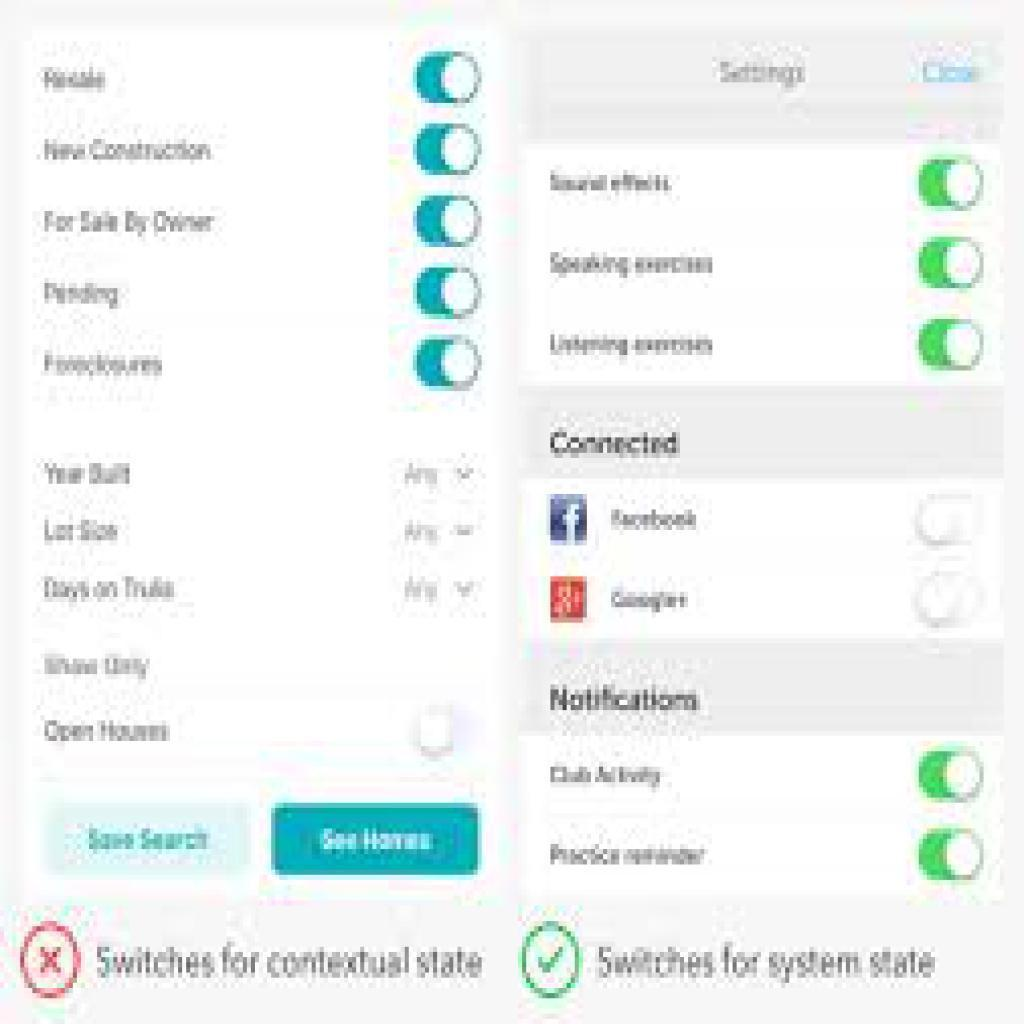button: (272, 801, 483, 875), (47, 801, 251, 874)
dropdown: (404, 574, 478, 608), (404, 518, 478, 549), (398, 461, 478, 489)
label: (548, 247, 716, 283), (545, 683, 702, 717), (42, 208, 218, 238), (547, 841, 712, 873), (545, 331, 715, 362), (548, 427, 687, 464), (42, 138, 213, 167), (40, 571, 180, 604), (40, 350, 170, 385), (41, 718, 173, 747), (715, 55, 811, 92), (550, 762, 664, 793), (547, 167, 677, 193), (42, 457, 137, 491), (41, 654, 153, 681), (40, 512, 124, 547), (608, 507, 702, 537), (607, 585, 691, 617), (42, 280, 122, 311), (918, 55, 988, 87), (41, 67, 112, 95)
switch: (414, 702, 488, 760), (913, 571, 990, 625), (913, 495, 990, 547), (414, 338, 486, 390), (919, 829, 987, 884), (918, 158, 988, 211), (918, 318, 985, 372), (918, 238, 989, 288), (417, 53, 482, 105), (415, 125, 481, 176), (415, 198, 483, 247), (417, 266, 482, 317), (921, 750, 984, 802)
